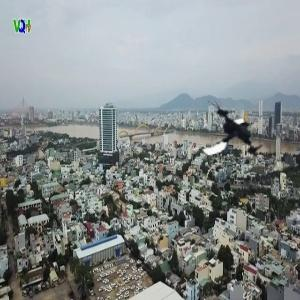drone: (194, 97, 271, 174)
